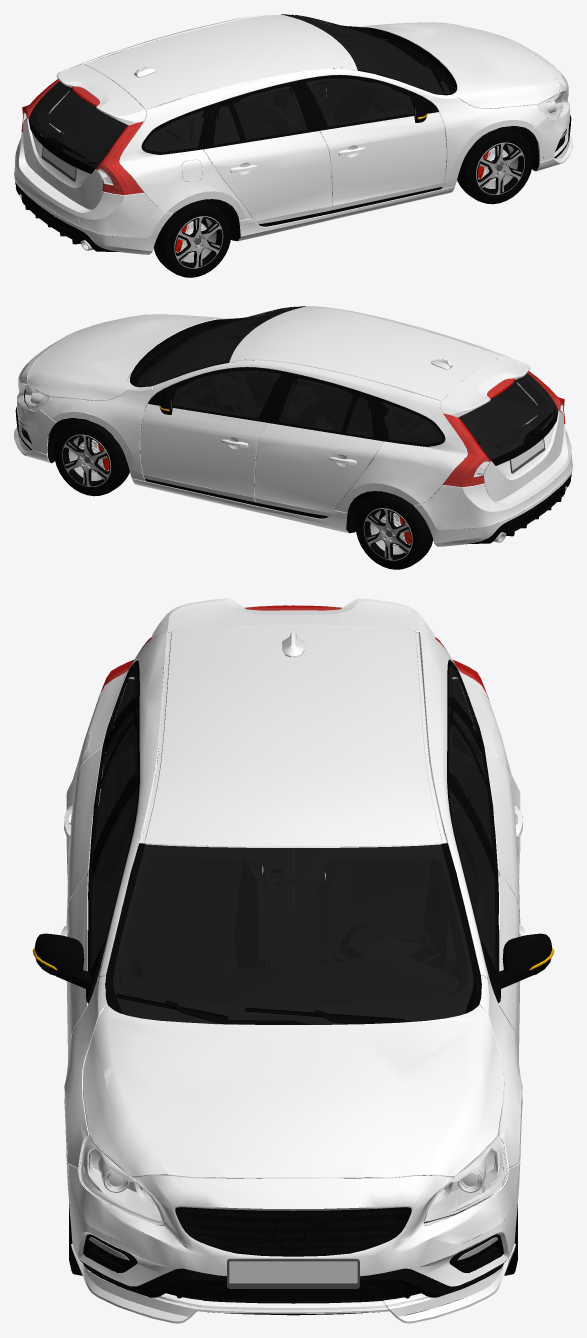
File: estate-lod1.glb
3 renders of one model, top to bottom at view 1: azimuth 30°, elevation 25°; view 2: azimuth 150°, elevation 25°; view 3: azimuth 270°, elevation 25°, orthographic. The views are drawn at different scales.
Visible parts, largest first — view 1: Body, Interior_Static, Wheel_1_0, Wheel_0_0, Brakelight_Chrome, Light_Brake_Right_0, Headlight_Chrome, License_Plate_1; view 2: Body, Interior_Static, Wheel_1_1, Wheel_0_1, Brakelight_Chrome, Light_Brake_Left_0, Headlight_Chrome, License_Plate_1; view 3: Body, Interior_Static, Headlight_Chrome, License_Plate_0, License_Plate_Static.
Boxes of the visible parts, box(x1,y1,x2,y2) form: Body: box(14, 14, 572, 254); Interior_Static: box(25, 17, 561, 254); Wheel_1_0: box(153, 199, 231, 277); Wheel_0_0: box(457, 127, 532, 204); Brakelight_Chrome: box(22, 80, 143, 194); Light_Brake_Right_0: box(96, 121, 143, 195); Headlight_Chrome: box(537, 93, 563, 121); License_Plate_1: box(42, 147, 75, 178); Body: box(14, 306, 572, 546); Interior_Static: box(24, 309, 555, 546); Wheel_1_1: box(355, 491, 433, 569); Wheel_0_1: box(54, 419, 129, 496); Brakelight_Chrome: box(444, 372, 564, 486); Light_Brake_Left_0: box(443, 413, 490, 487); Headlight_Chrome: box(23, 385, 49, 411); License_Plate_1: box(511, 439, 544, 470); Body: box(34, 598, 552, 1323); Interior_Static: box(72, 665, 514, 1315); Headlight_Chrome: box(79, 1136, 507, 1225); License_Plate_0: box(229, 1261, 357, 1283); License_Plate_Static: box(227, 1258, 359, 1288).
Size of the model in its own units: 4.67 by 1.5 by 2.08.
